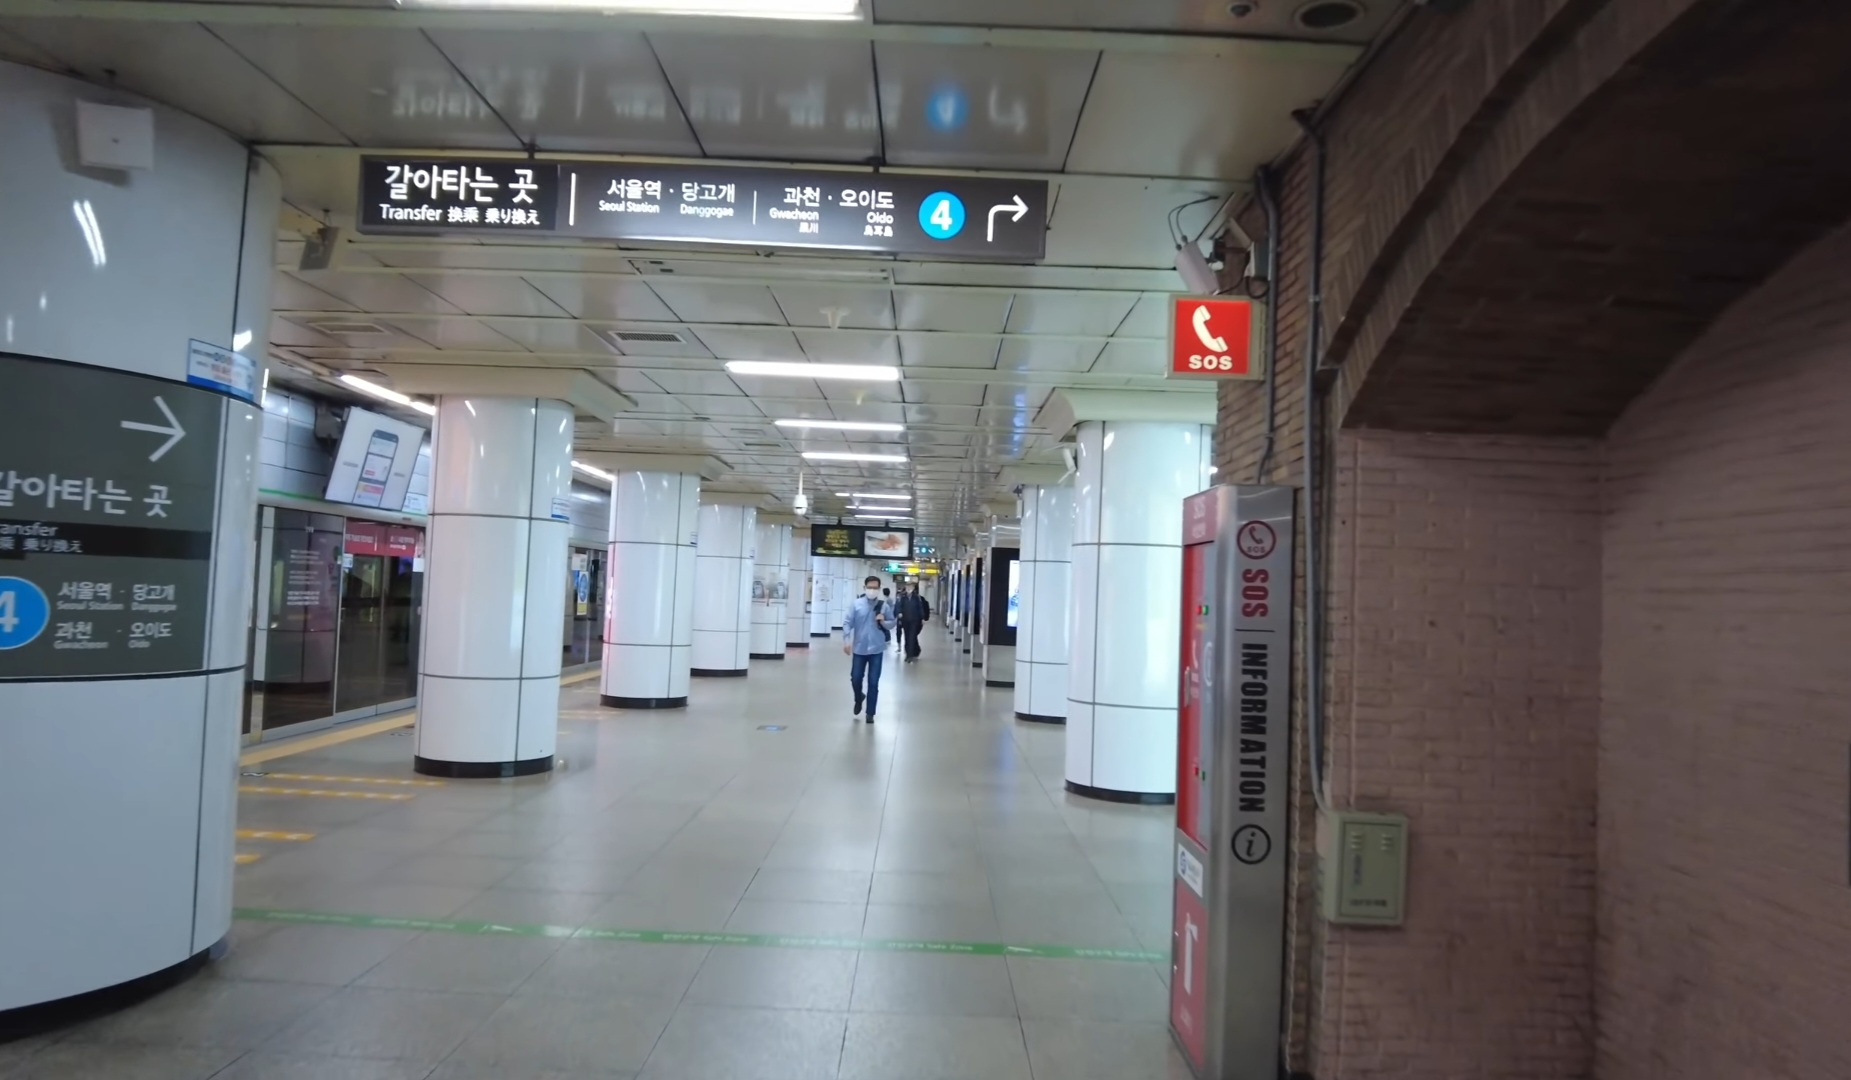signBoard: (346, 138, 1054, 273)
